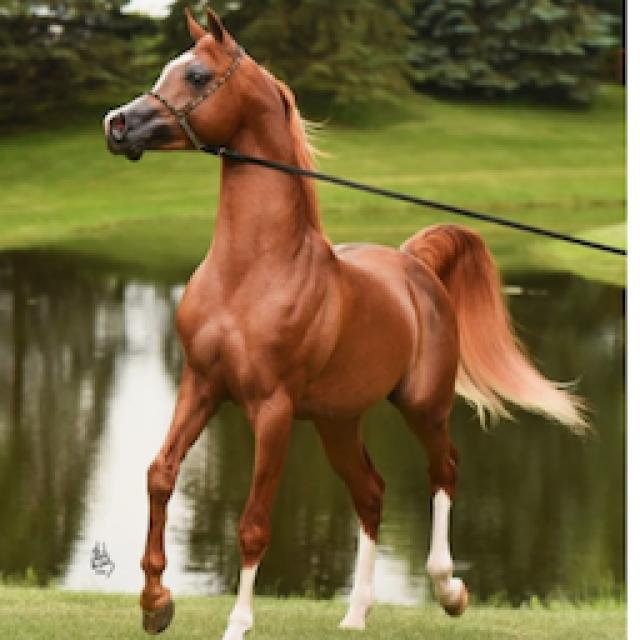Horse: (92, 2, 596, 638)
